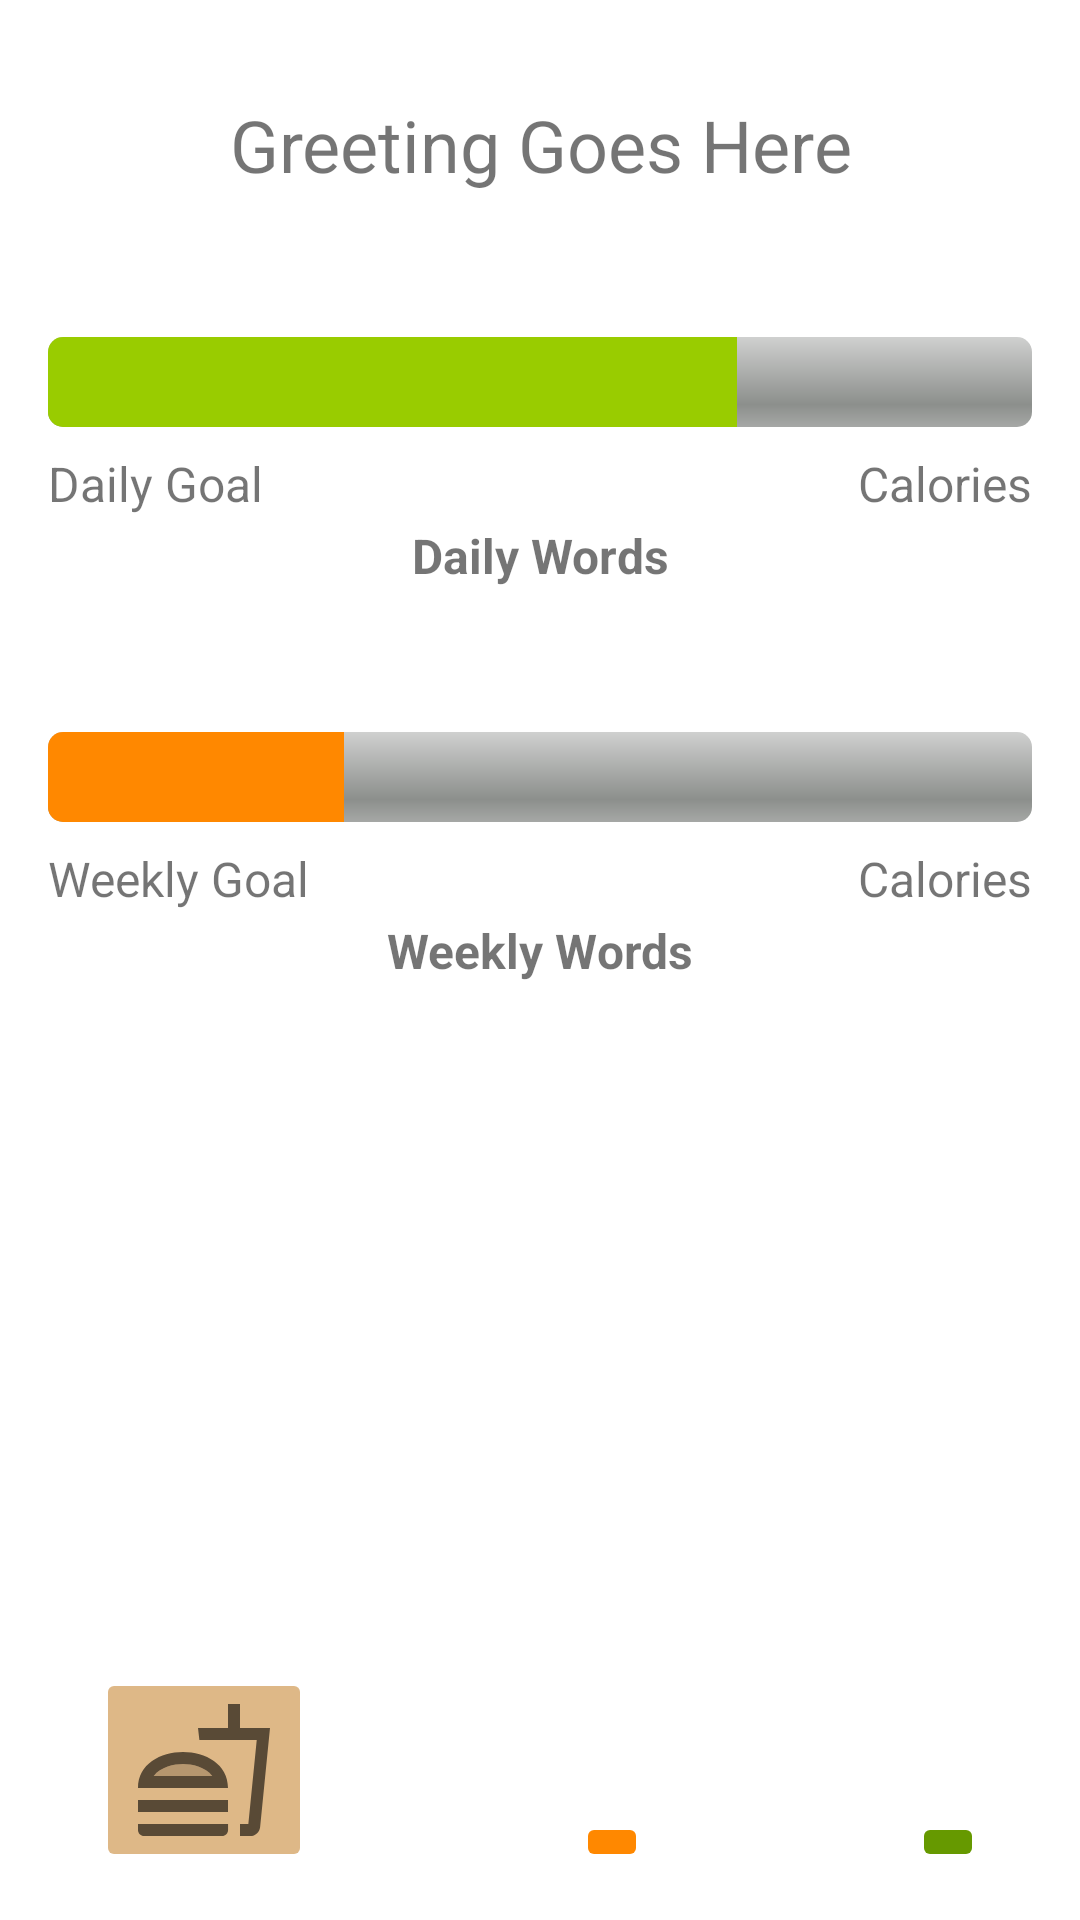

Named icons in this screenshot (1080 × 1920) and their bounding boxes, (x1, y1, x2, y2):
fastfood: (108, 1686, 300, 1854)
